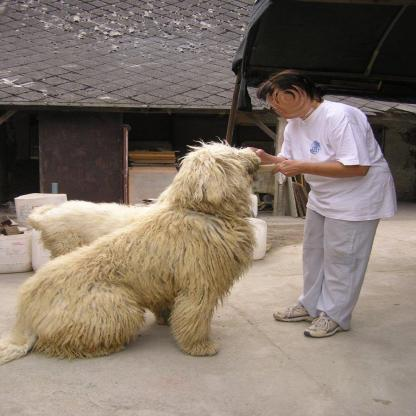komondor: (9, 143, 265, 358)
